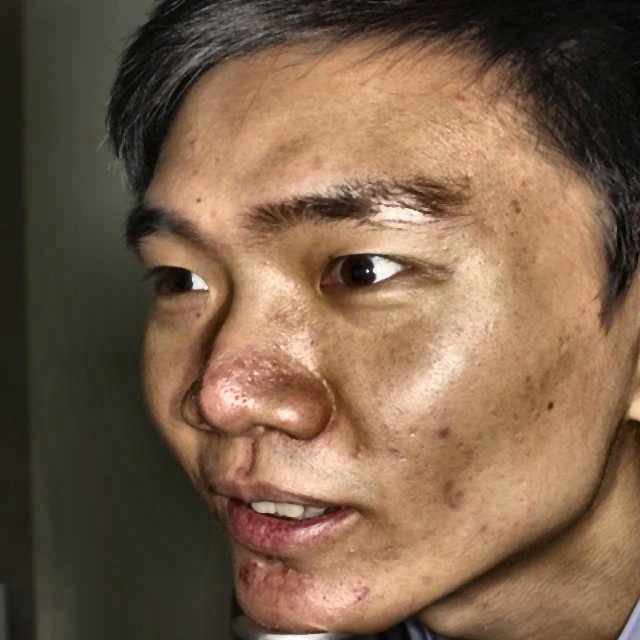comedone: (235, 557, 273, 594), (440, 475, 469, 512), (347, 580, 379, 604), (432, 421, 454, 446)
